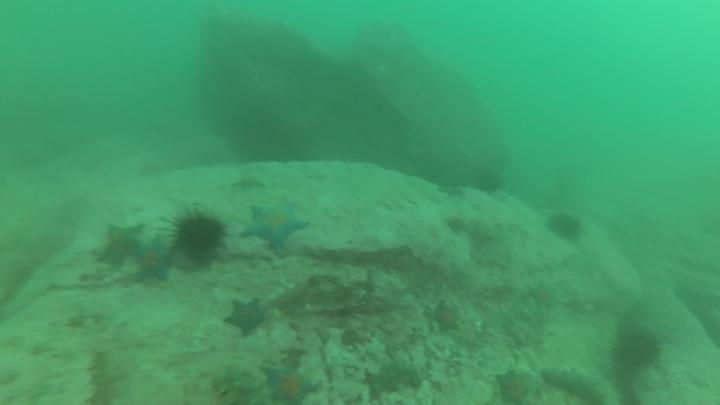echinus: (167, 208, 230, 269), (609, 322, 668, 377), (547, 207, 582, 244), (469, 167, 504, 196)
starfish: (244, 203, 309, 260), (255, 364, 323, 405), (95, 223, 145, 268), (133, 236, 174, 289), (224, 296, 272, 340), (425, 299, 466, 337), (497, 368, 536, 405), (229, 175, 271, 195)
